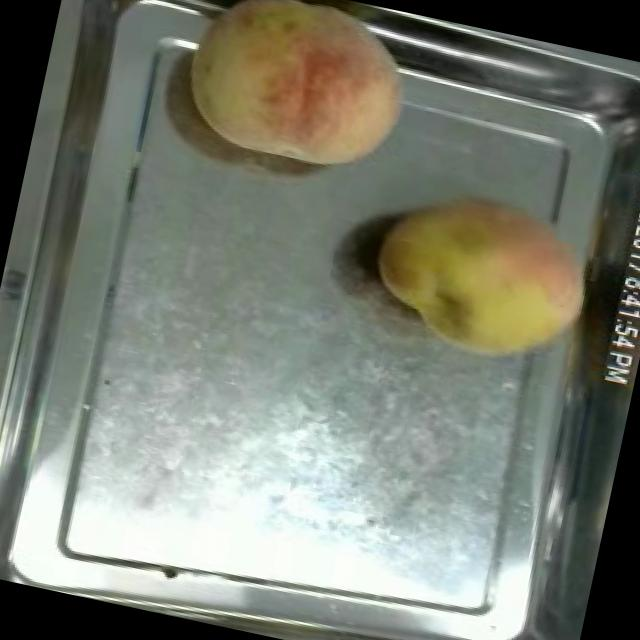Fruit: (352, 166, 612, 384), (167, 0, 432, 193)
